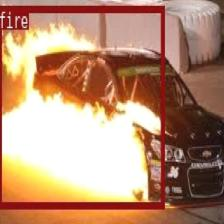fire: (0, 4, 163, 206)
